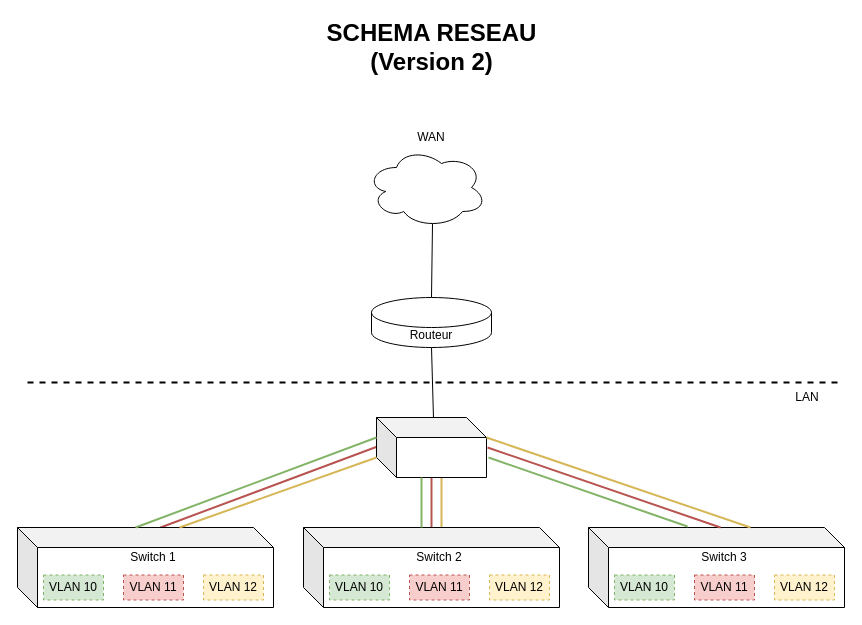
Image size: 862x625. Some labels were removed from this diagram. Each missing label, with the box of its shape:
- INA: (366, 146, 486, 228)
Layer 3 Switch: (376, 416, 486, 478)
